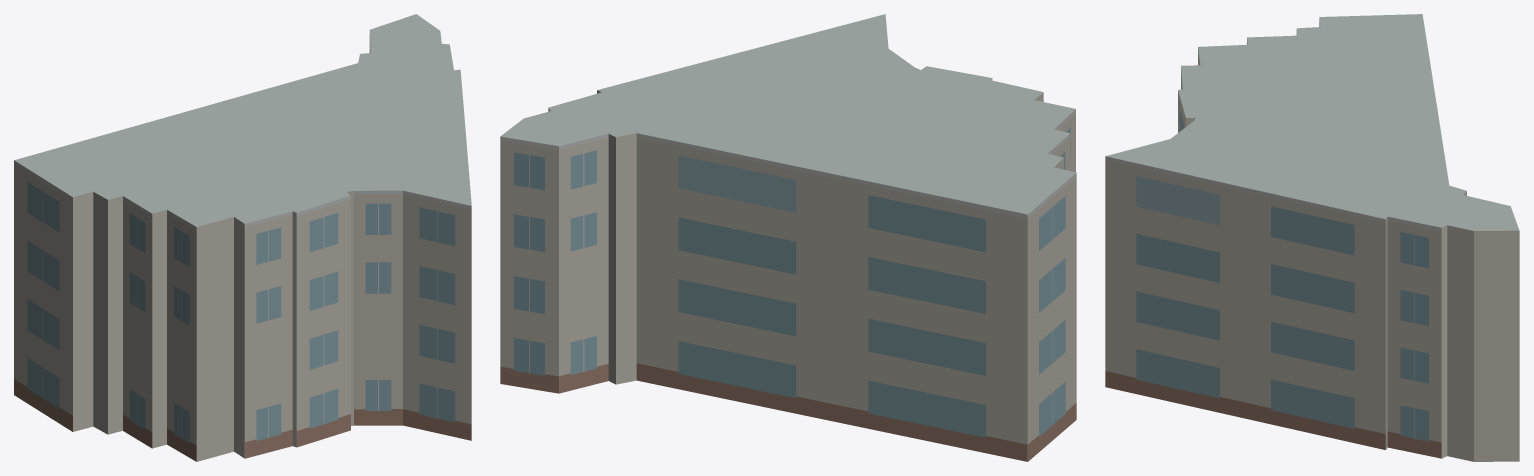
The model's file is survey-upis-32977230.glb.
The picture shows the model from 3 angles, left to right: view 1: azimuth 30°, elevation 25°; view 2: azimuth 150°, elevation 25°; view 3: azimuth 270°, elevation 25°; orthographic projection. The views are drawn at different scales.
Parts seen in each view (by area): view 1: survey-upis-32977230.tmp; view 2: survey-upis-32977230.tmp; view 3: survey-upis-32977230.tmp.
Part boxes in pixels (bbox=[...]): survey-upis-32977230.tmp: bbox=[14, 14, 471, 461]; survey-upis-32977230.tmp: bbox=[500, 14, 1076, 461]; survey-upis-32977230.tmp: bbox=[1105, 14, 1519, 461].
Bounding box in the file's own units: 30.04 × 14.9 × 24.23.
